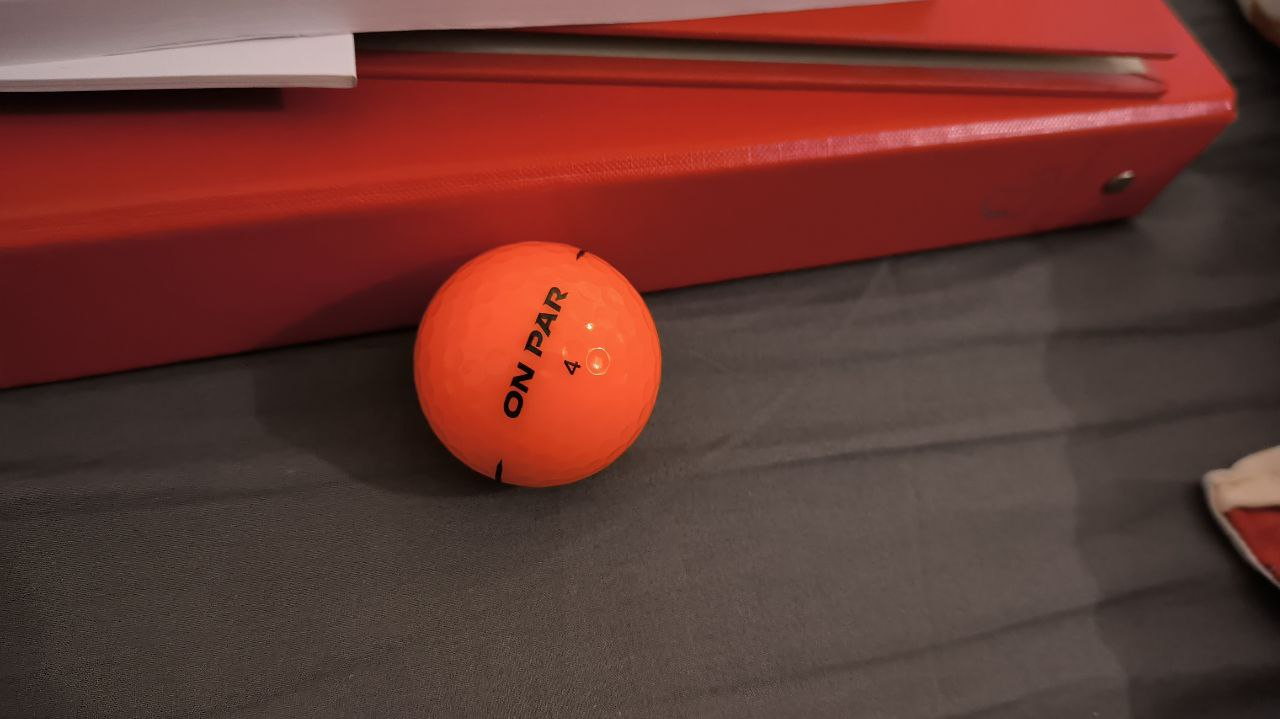orange_ball: (412, 241, 661, 487)
